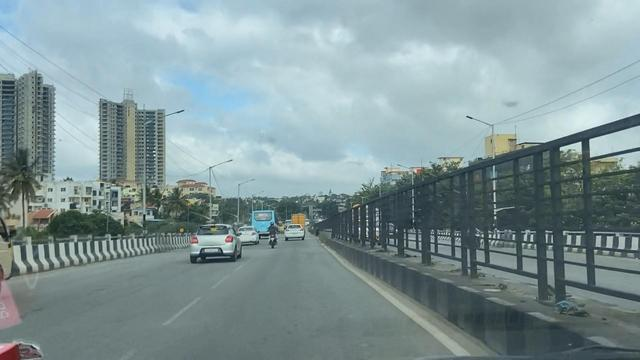HMV: (0, 158, 25, 314), (251, 203, 282, 246)
LMV: (187, 212, 244, 270), (260, 207, 287, 261), (281, 217, 309, 248), (236, 224, 260, 246)
